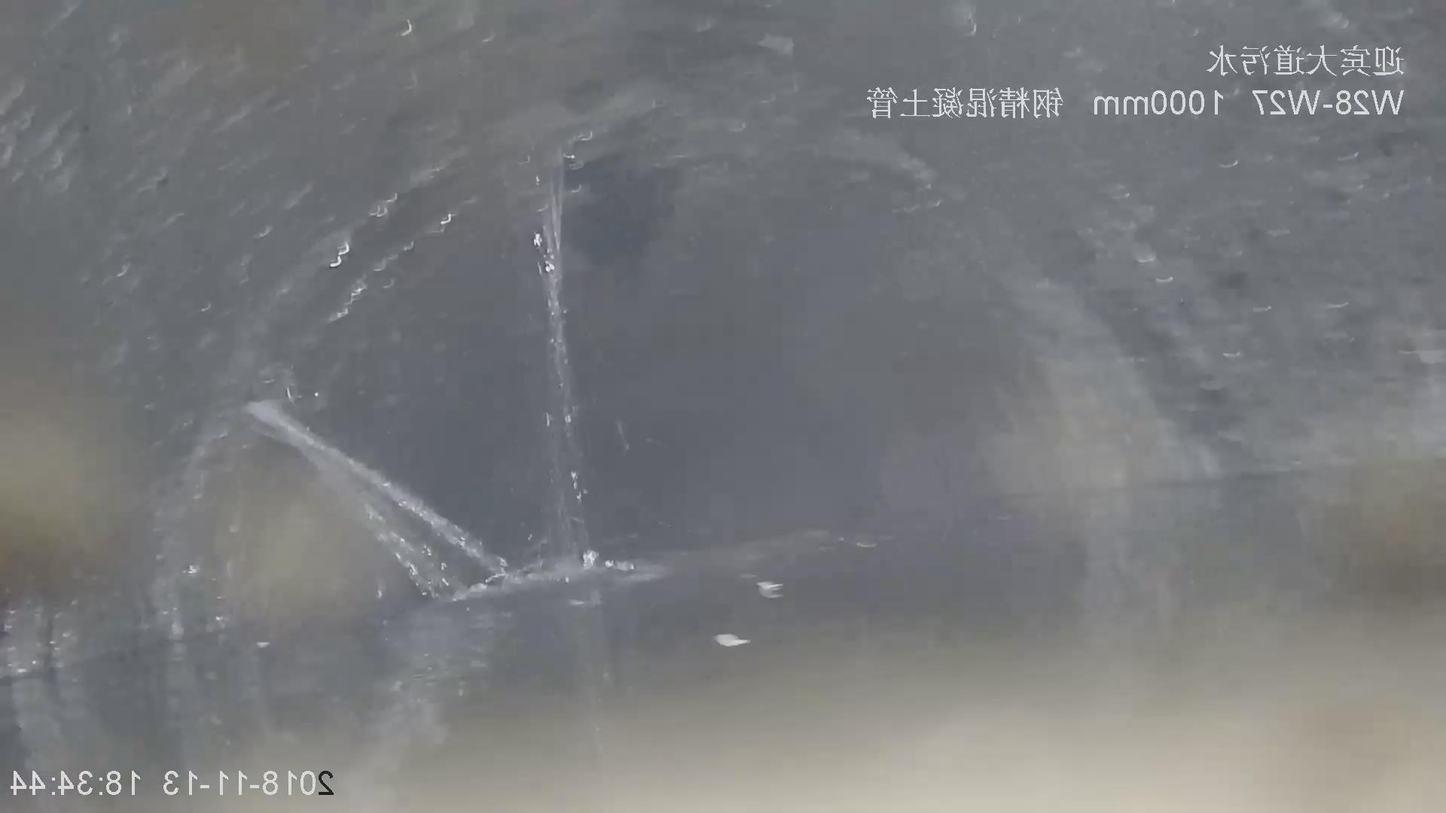SL: (238, 131, 589, 606)
